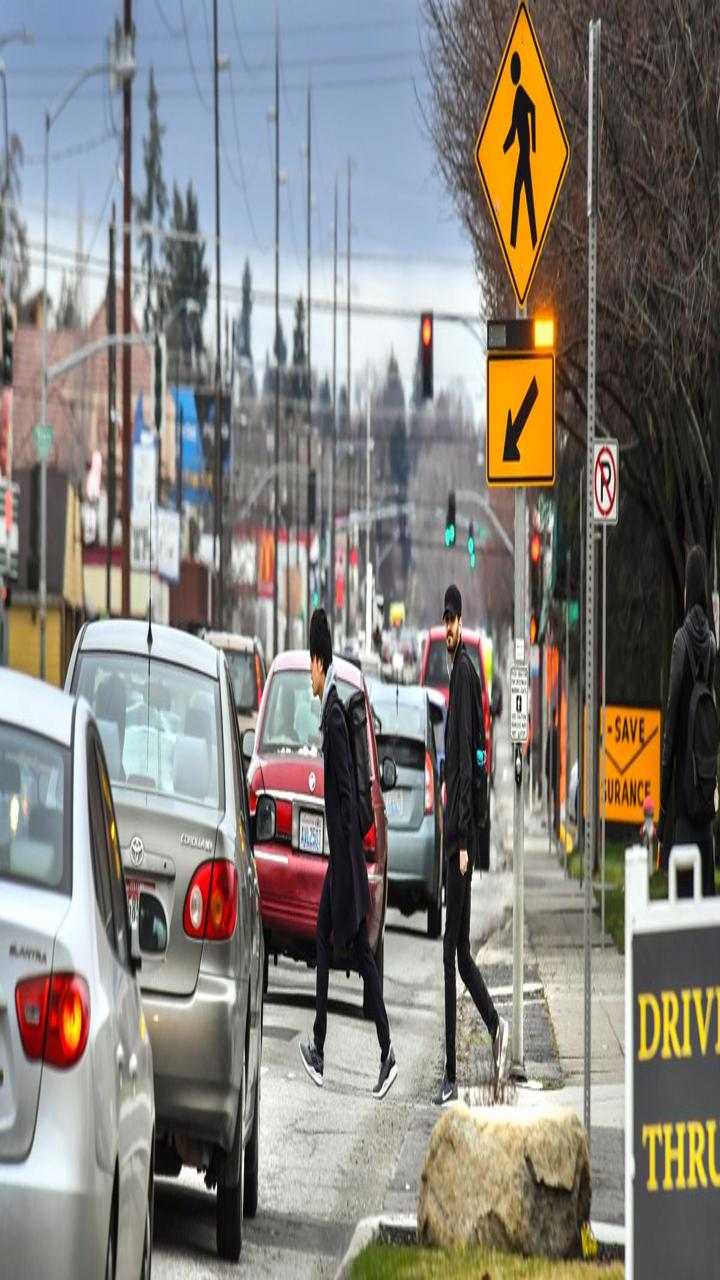Traffic sign: (462, 4, 572, 317), (474, 336, 567, 509), (405, 298, 451, 433)
pedestrian: (412, 576, 532, 1097), (292, 605, 411, 1105)
vehicle: (71, 614, 268, 1267), (1, 671, 158, 1280)
